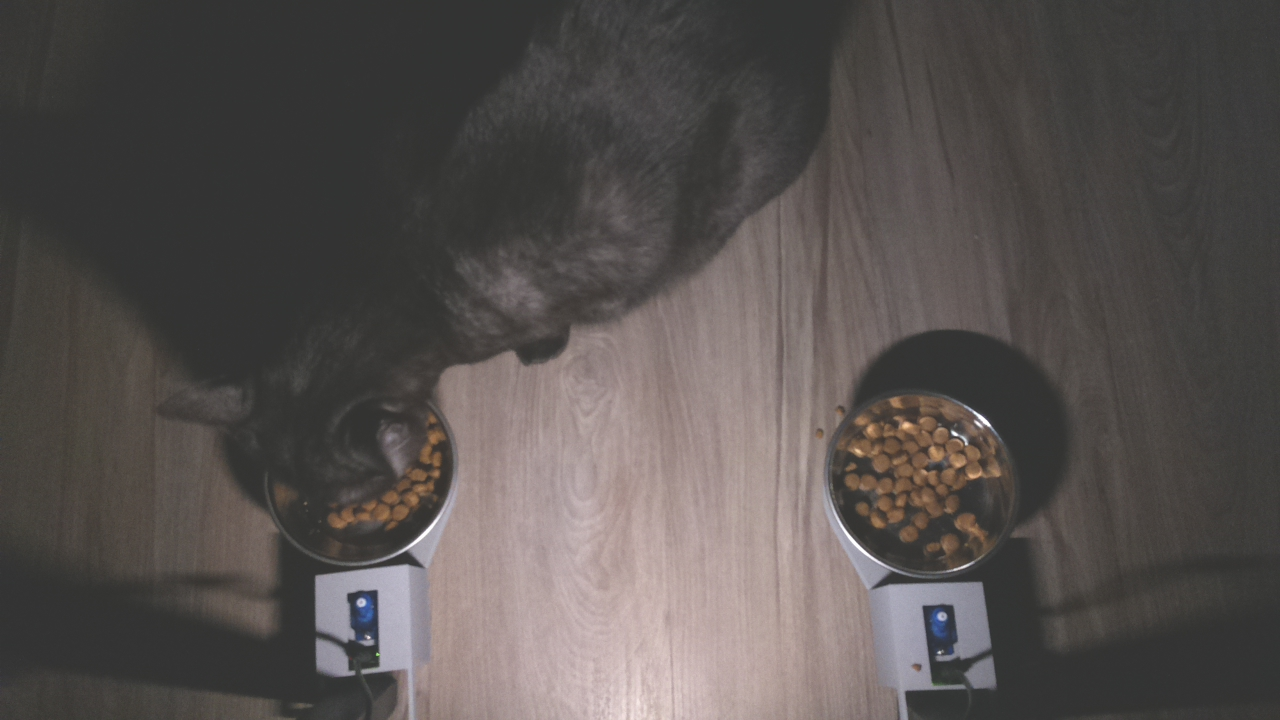open_bowl: (818, 382, 1027, 580)
saki_eating: (152, 279, 461, 573)
